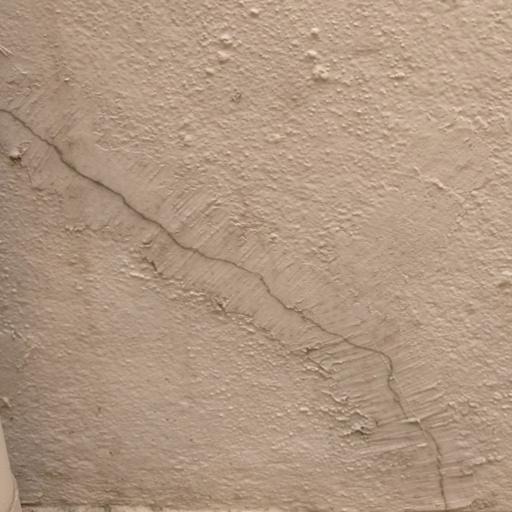minor_crack: (0, 82, 465, 511)
